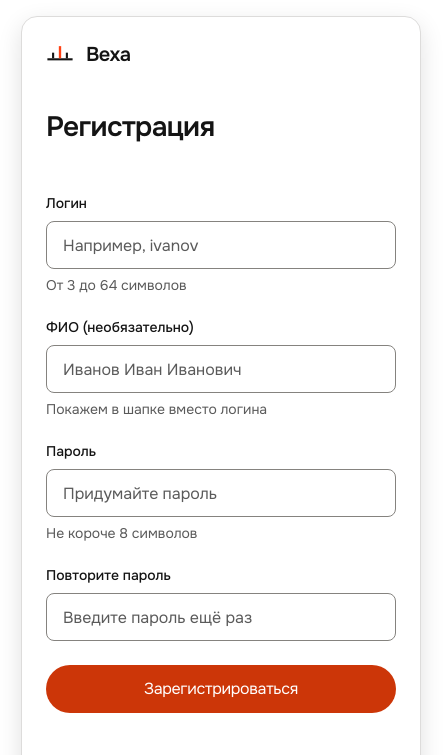
Test: RegisterPage › rejects mismatching passwords
Type "newbie" into the field labelled "Логин" at [221, 245], box left=46, top=221, right=396, bottom=269
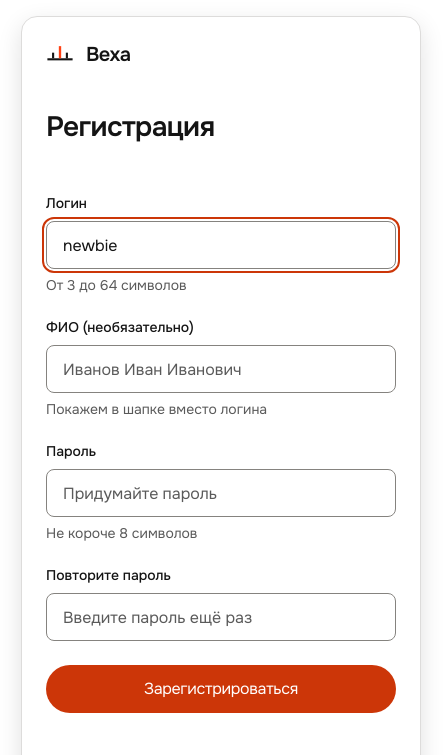
Type "long-enough-password" into the password field labelled "Пароль" at [221, 493], box left=46, top=469, right=396, bottom=517
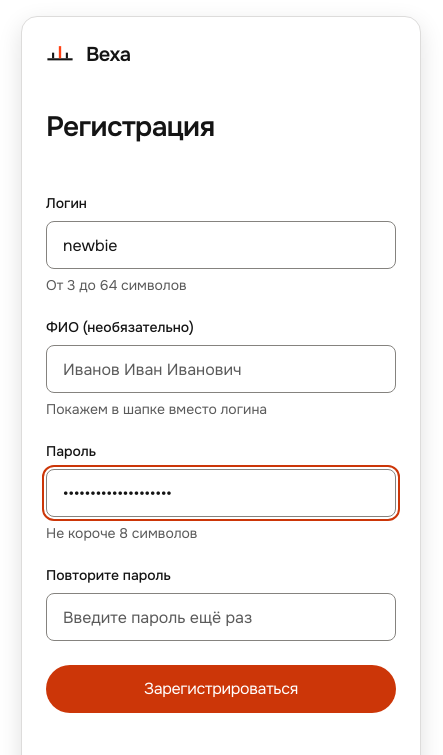
Type "another-long-password" into the password field labelled "Повторите пароль" at [221, 617], box left=46, top=593, right=396, bottom=641
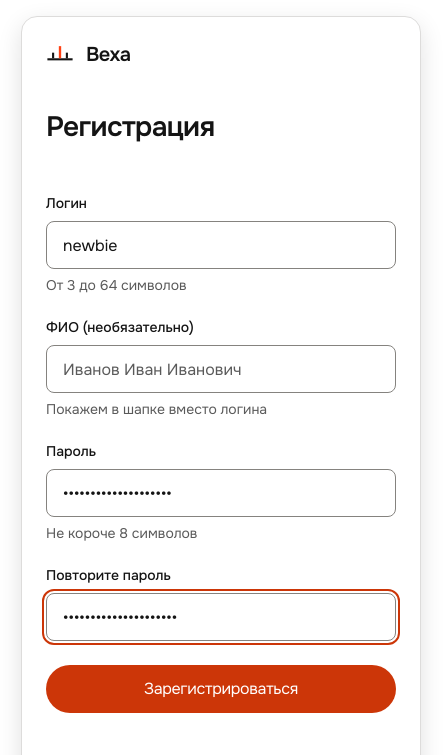
Click the button "Зарегистрироваться" at [221, 689], box left=46, top=665, right=396, bottom=713
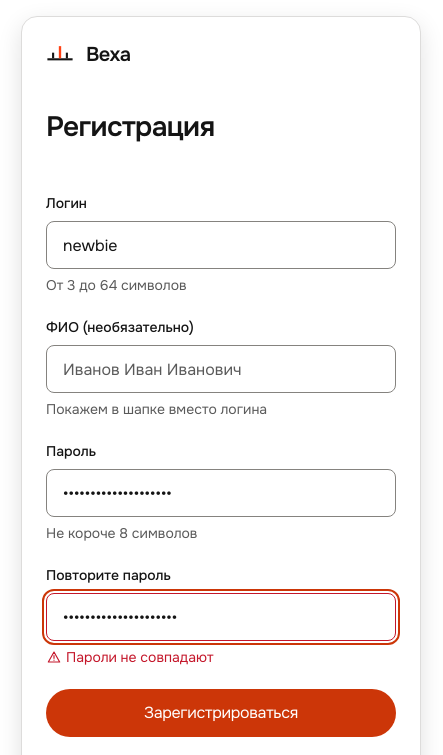
Expected: the text "Пароли не совпадают" is shown, left=46, top=648, right=213, bottom=666
